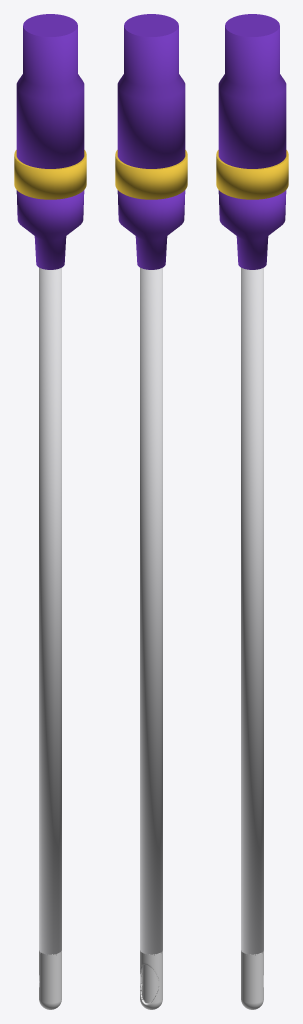
Rendered from blader-smith-nephew.glb.
3 views of the same model, side by side, from view 1: azimuth 30°, elevation 25°; view 2: azimuth 150°, elevation 25°; view 3: azimuth 330°, elevation 25° (orthographic).
Visible parts, largest first — view 1: cannula, hub_2, hub_0, hub_1, tip; view 2: cannula, hub_2, hub_0, hub_1, tip; view 3: cannula, hub_2, hub_0, hub_1, tip.
Boxes of the visible parts, x1,y1,x2,y2 form: cannula: [39, 267, 61, 955]; hub_2: [16, 14, 84, 168]; hub_0: [16, 190, 84, 269]; hub_1: [14, 150, 86, 199]; tip: [39, 950, 61, 1009]; cannula: [140, 267, 162, 955]; hub_2: [117, 14, 185, 168]; hub_0: [117, 190, 185, 269]; hub_1: [115, 150, 187, 199]; tip: [140, 950, 162, 1009]; cannula: [241, 267, 263, 955]; hub_2: [218, 14, 286, 168]; hub_0: [218, 190, 286, 269]; hub_1: [216, 150, 288, 199]; tip: [241, 950, 263, 1009].
Size of the model in its own units: 0.0132 by 0.198 by 0.0132.
